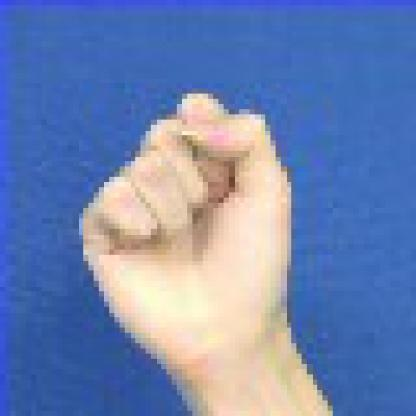zero: (39, 66, 374, 392)
